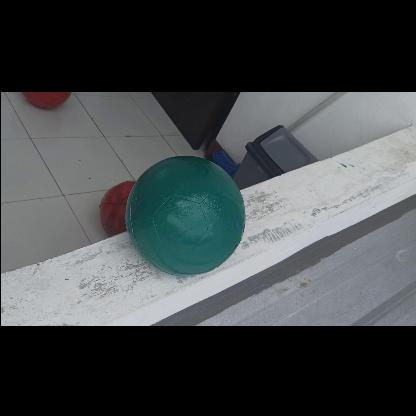green_ball: (125, 154, 245, 274)
